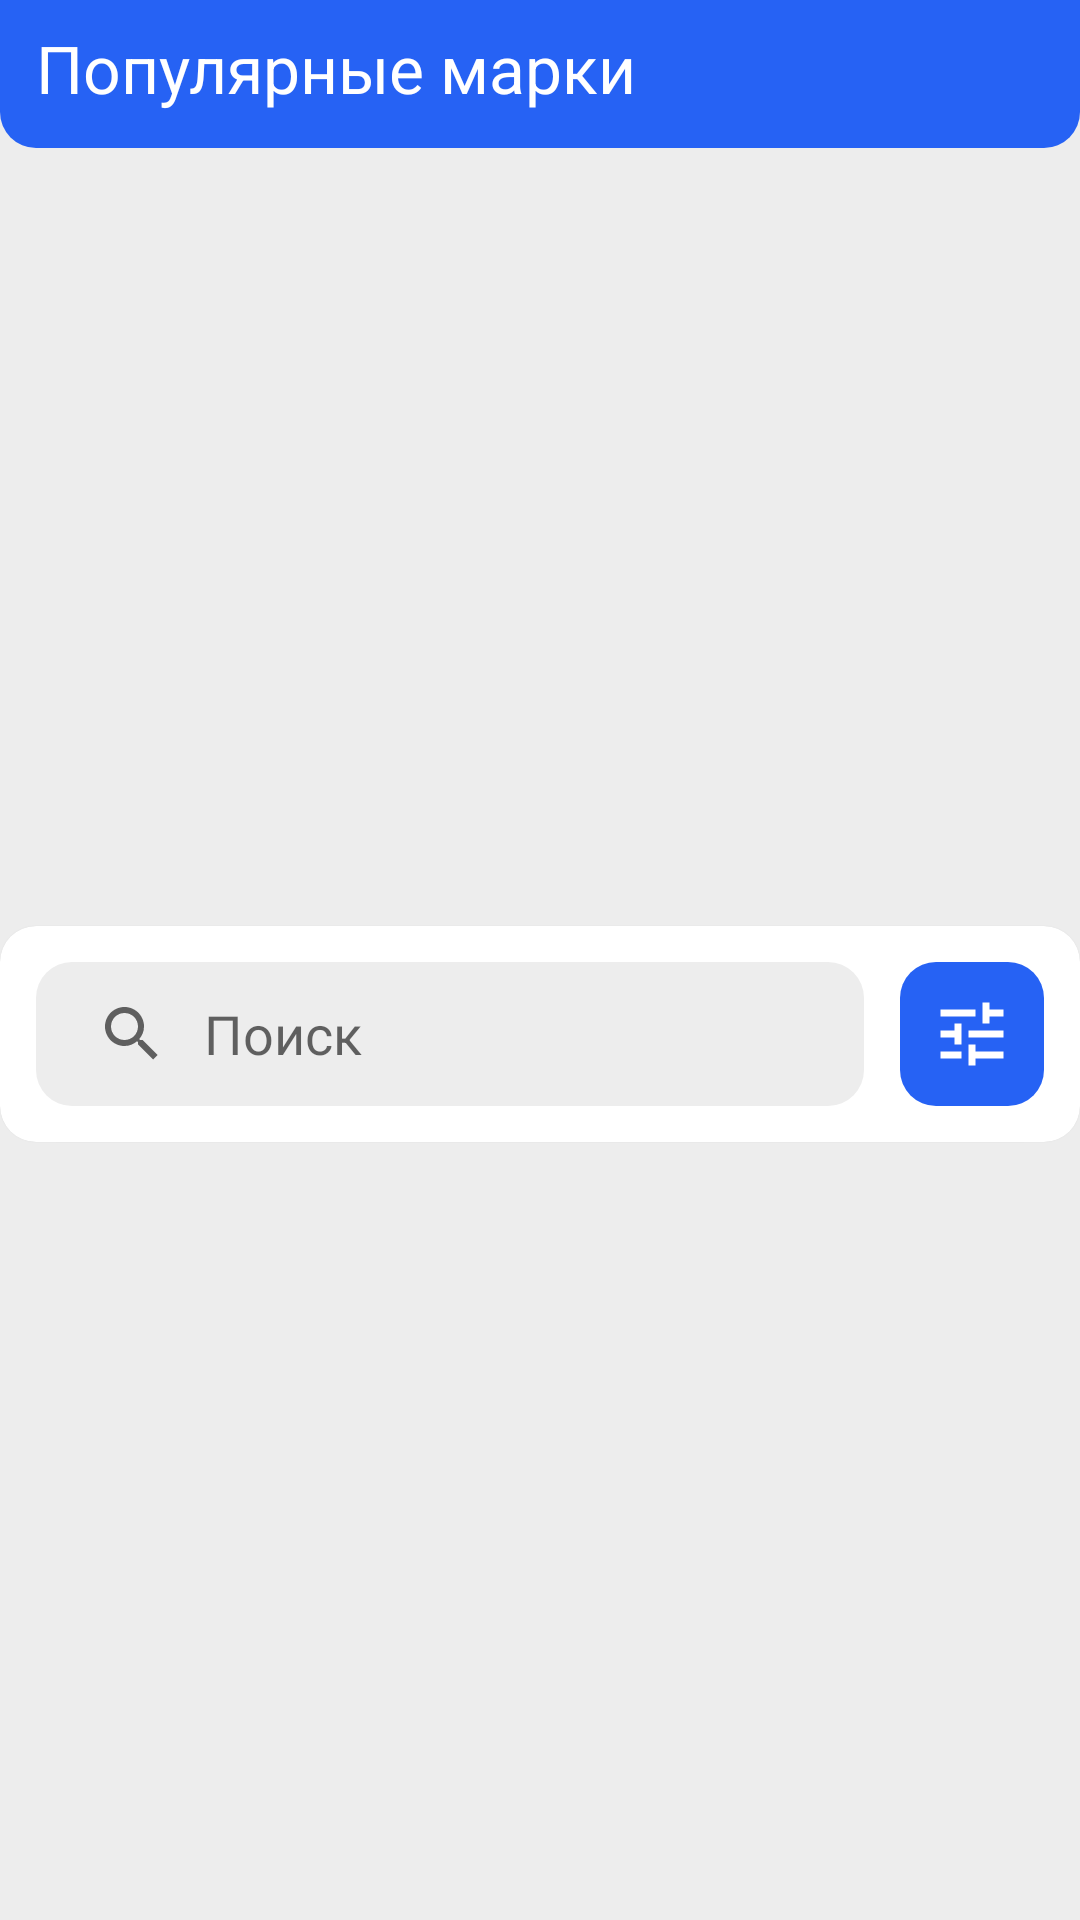

Icon bounding boxes for this 1080x1920 phone screenshot, format {"x1": x1, "y1": y1, "x2": x2, "y2": y2}:
tune: {"x1": 900, "y1": 962, "x2": 1044, "y2": 1106}
